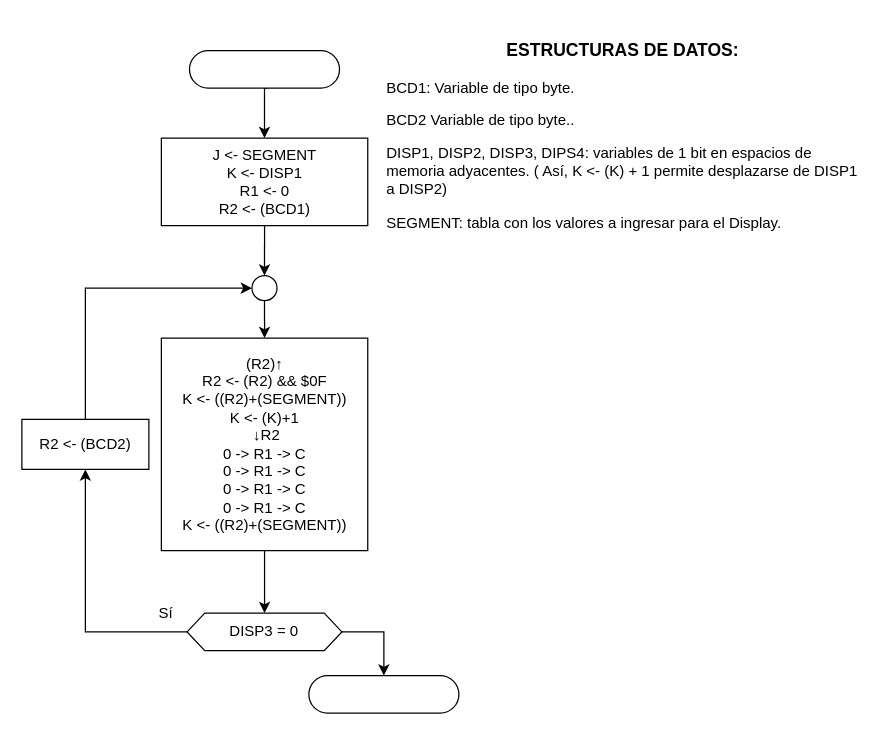
The diagram is 881 pixels wide and 735 high, and some of its shapes have lost their labels. The box of each missing label's shape, as (x1, y1, x2, y2) in pixels:
BCD_7SEG: (188, 49, 340, 88)
REGRESA: (308, 674, 459, 713)
